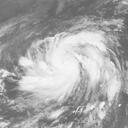cyclone: (19, 30, 117, 103)
